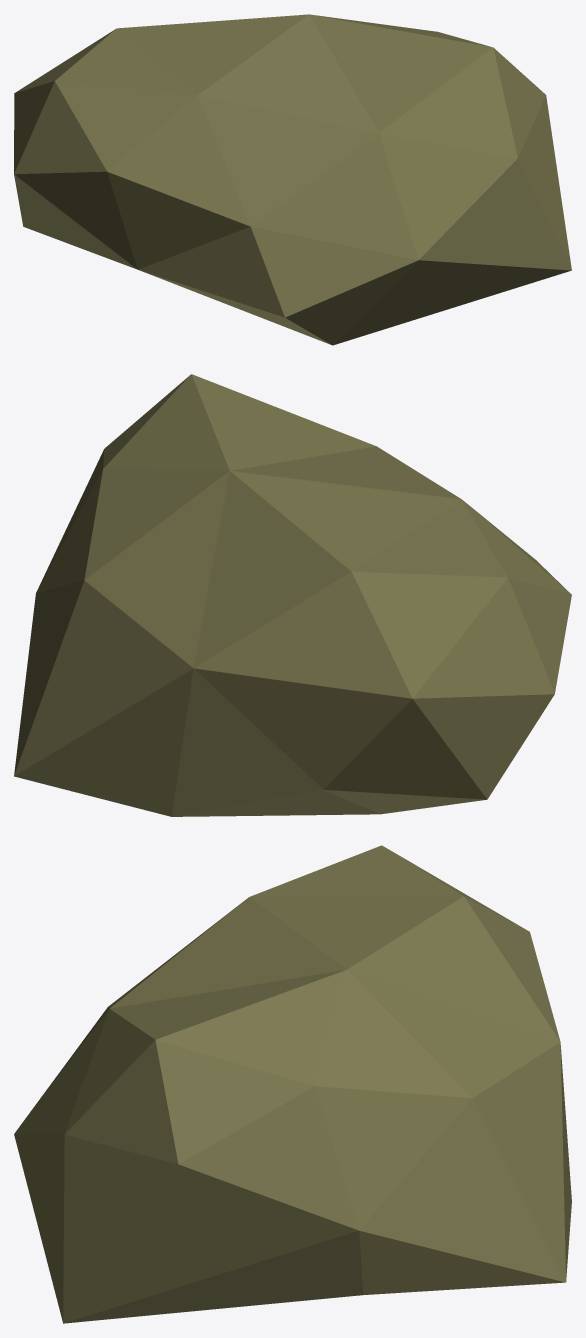
The model's file is Stein_004.gltf.
The picture shows the model from 3 angles, top to bottom: view 1: azimuth 30°, elevation 25°; view 2: azimuth 150°, elevation 25°; view 3: azimuth 270°, elevation 25°; orthographic projection. The views are drawn at different scales.
Visible parts, largest first — view 1: Stein.004-col; view 2: Stein.004-col; view 3: Stein.004-col.
Part boxes in pixels (x1,y1,x2,y2): Stein.004-col: (14,14,571,345); Stein.004-col: (14,374,571,816); Stein.004-col: (14,845,571,1323).
Size of the model in its own units: 1.75 by 0.9375 by 1.5.
